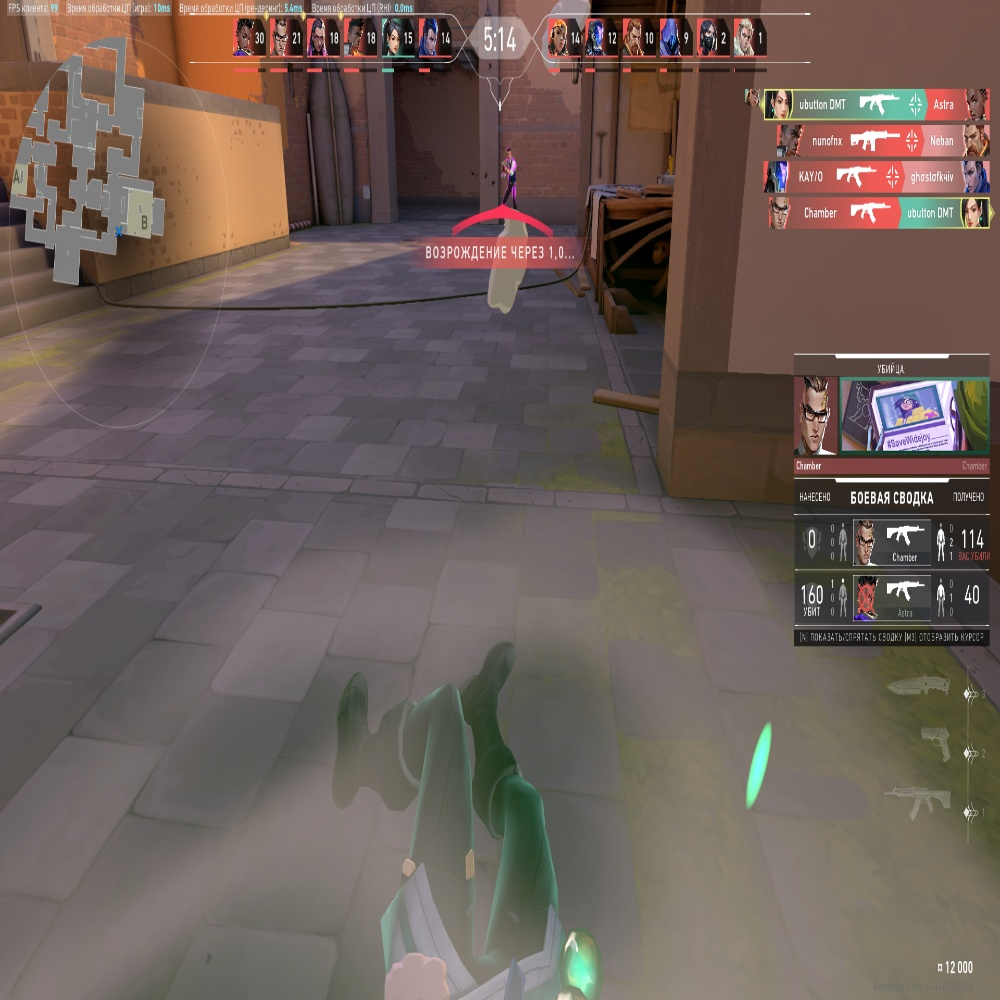body: (503, 161, 516, 183)
head: (507, 148, 511, 158)
